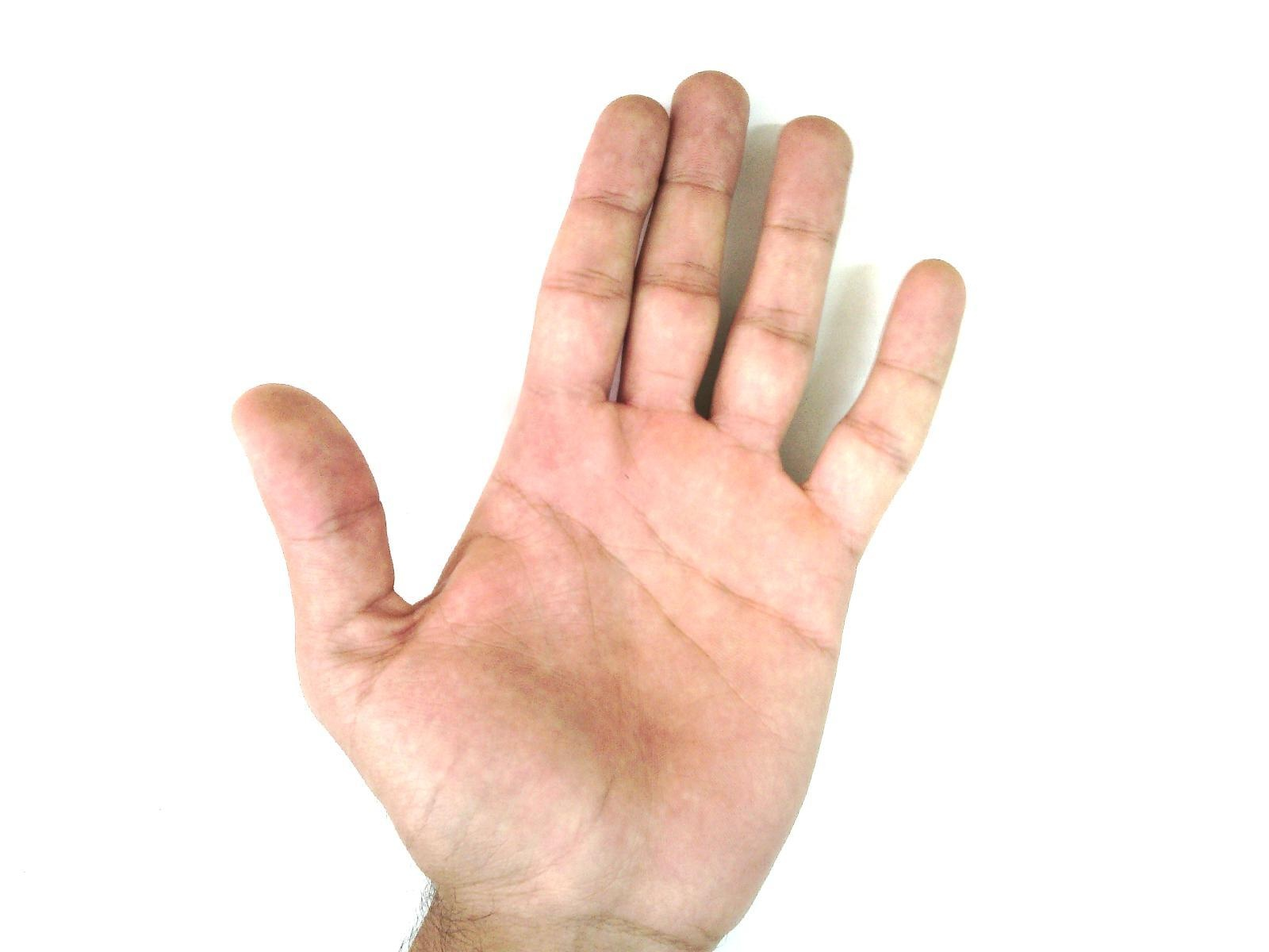open_palm: (230, 70, 969, 949)
